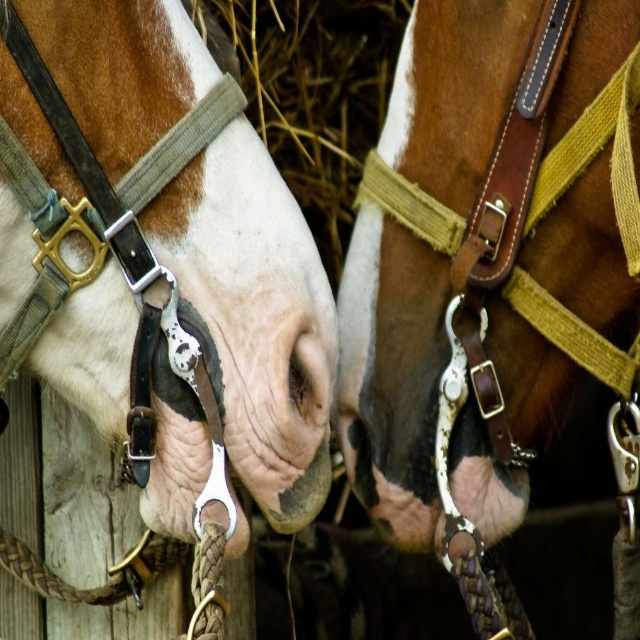Horse: (0, 0, 341, 562), (334, 0, 638, 563)
